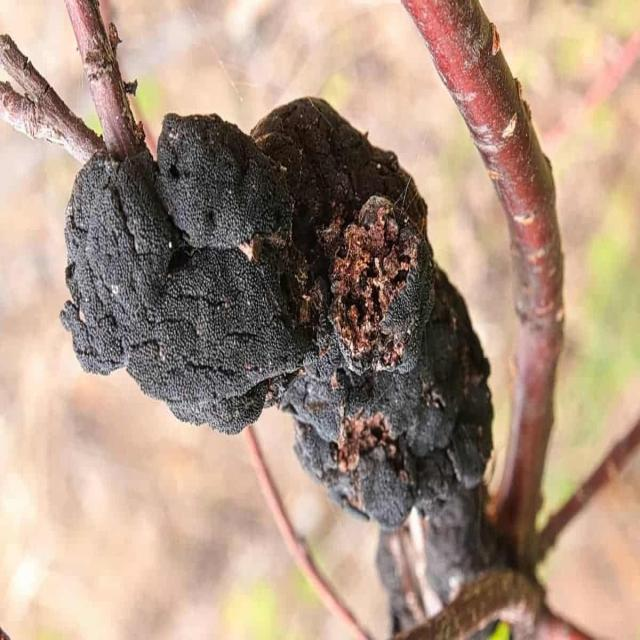Black_knot: (59, 93, 494, 529)
